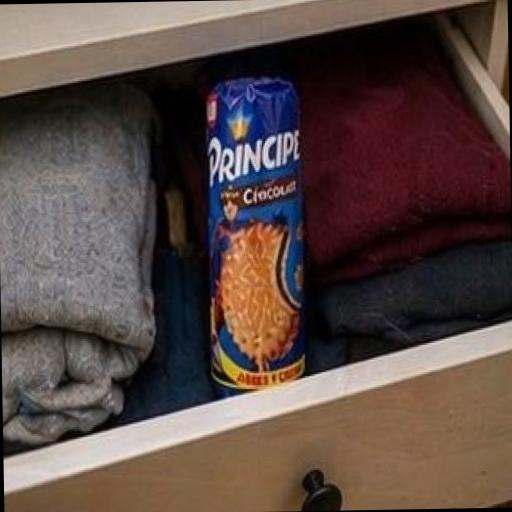prince: (145, 48, 414, 447)
